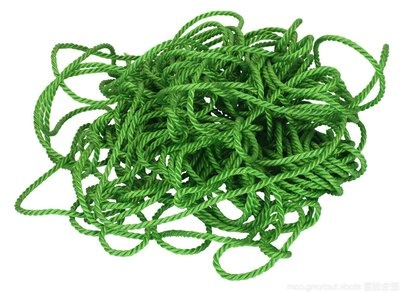9/可回收垃圾/绳子: (14, 10, 390, 281)
